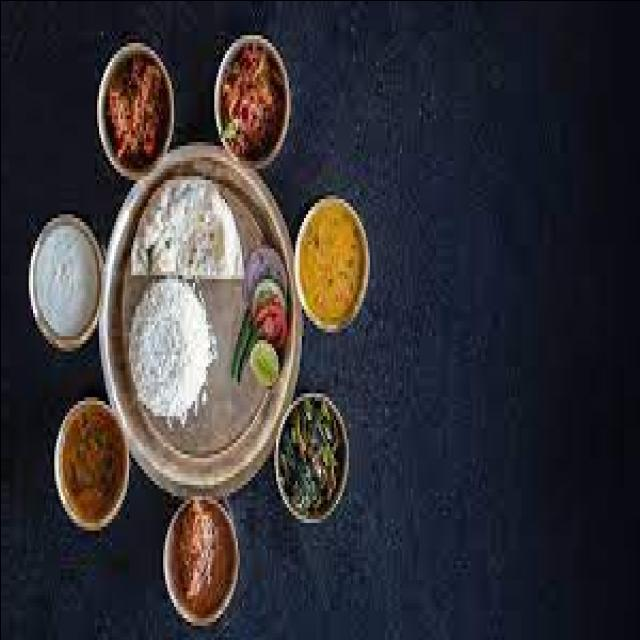curd: (23, 208, 101, 341)
pickle: (104, 60, 166, 161)
raita: (26, 208, 101, 342)
rice: (118, 269, 217, 415), (134, 173, 246, 285)
